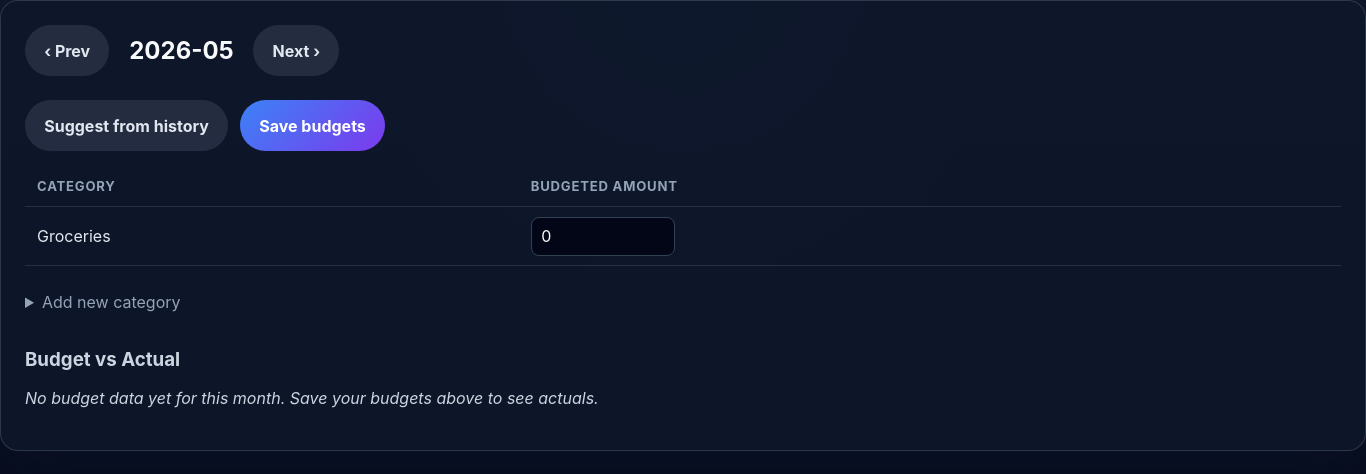
Scenario: BudgetPage › populates amounts from suggest-from-history
Expected: the text "Groceries" is shown, [25,207,519,266]
Click the button "Suggest from history".
click(126, 126)  # box [25,100,228,151]
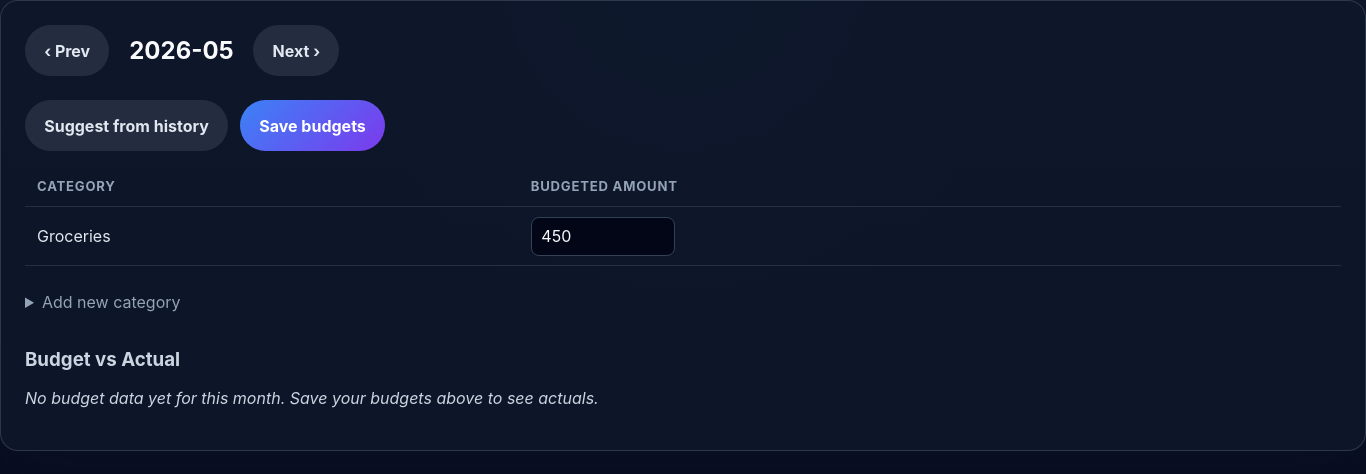
Expected: the number field named "budgeted amount for groceries" holds "450", [531,217,675,256]
